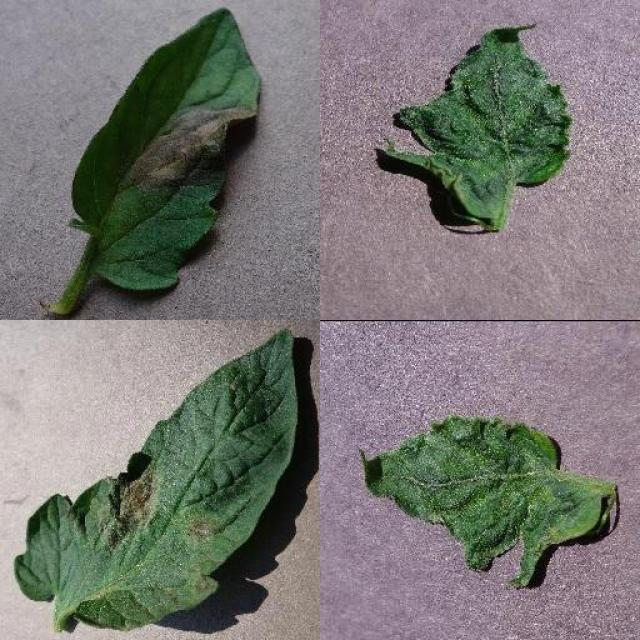Late Blight: (15, 327, 299, 632), (71, 5, 261, 294)
